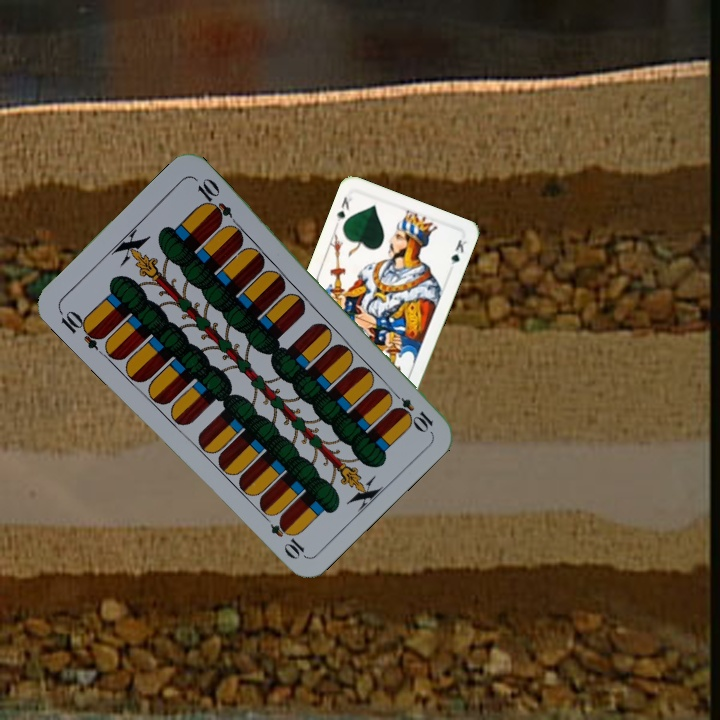E10: (54, 306, 107, 352), (386, 386, 436, 434)
GK: (332, 192, 355, 228)
